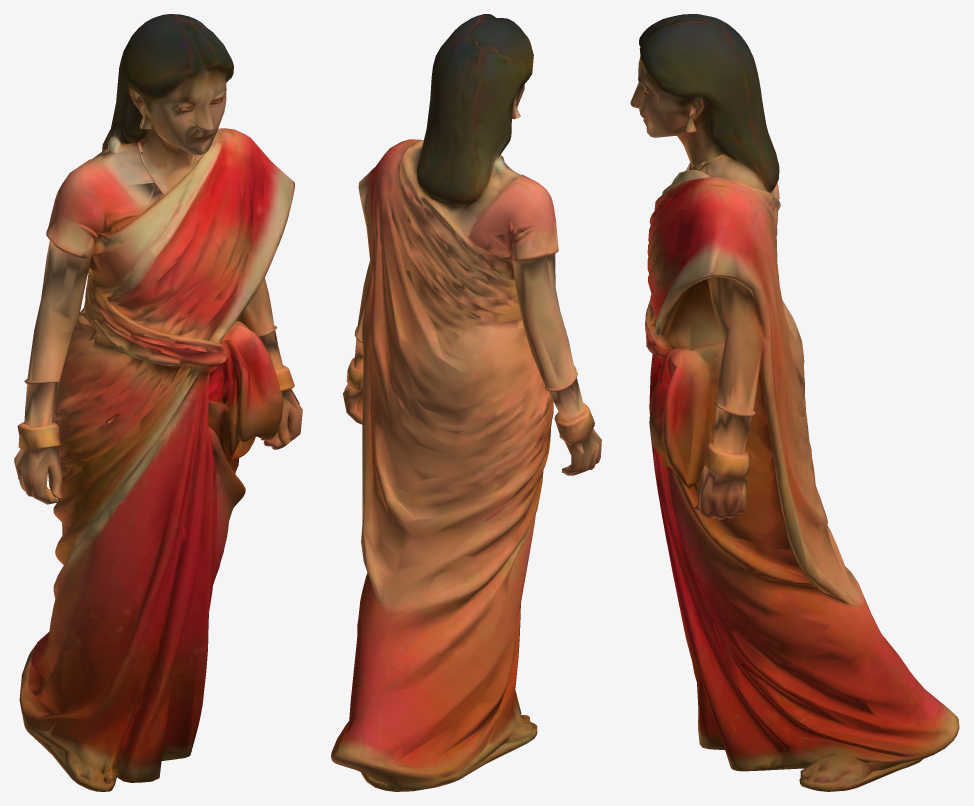
The model's file is stand-2.glb.
3 renders of one model, left to right at view 1: azimuth 30°, elevation 25°; view 2: azimuth 150°, elevation 25°; view 3: azimuth 270°, elevation 25°, orthographic. The views are drawn at different scales.
Visible parts, largest first — view 1: material_Material.001_0; view 2: material_Material.001_0; view 3: material_Material.001_0.
Part boxes in pixels (left/top/right/bottom): material_Material.001_0: left=14, top=14, right=302, bottom=791; material_Material.001_0: left=331, top=14, right=601, bottom=791; material_Material.001_0: left=630, top=14, right=959, bottom=791.
Bounding box in the file's own units: 0.437 × 1.14 × 0.4624.
1 material, 1 textured.
